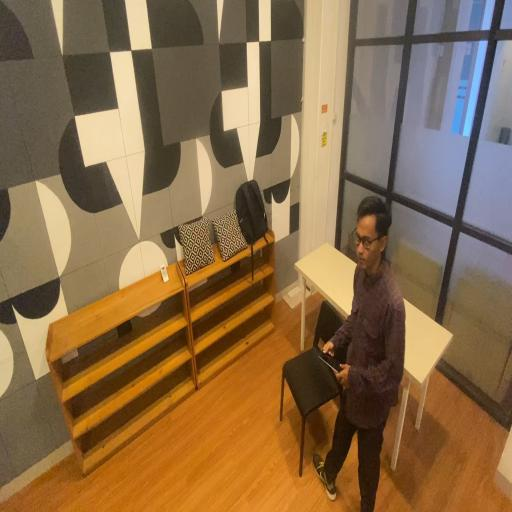bantal: (178, 214, 215, 276), (212, 207, 248, 262)
hp: (318, 347, 348, 382)
kursi: (278, 296, 350, 478)
lemari: (44, 260, 196, 478)
remote AC: (159, 262, 170, 285)
tas ransel: (236, 180, 273, 250)
